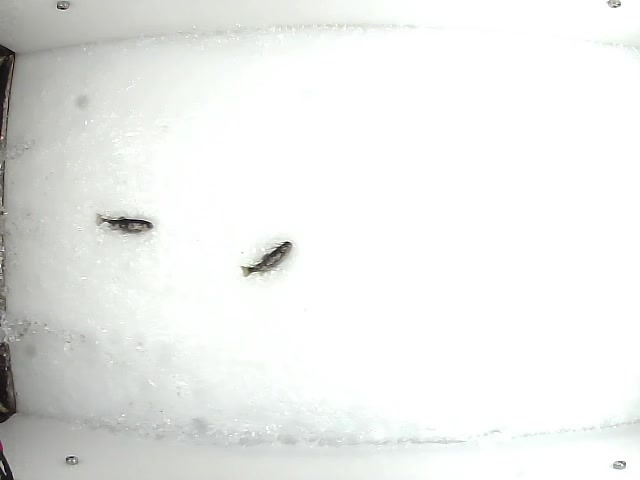fish: (238, 240, 293, 281), (96, 211, 156, 235)
